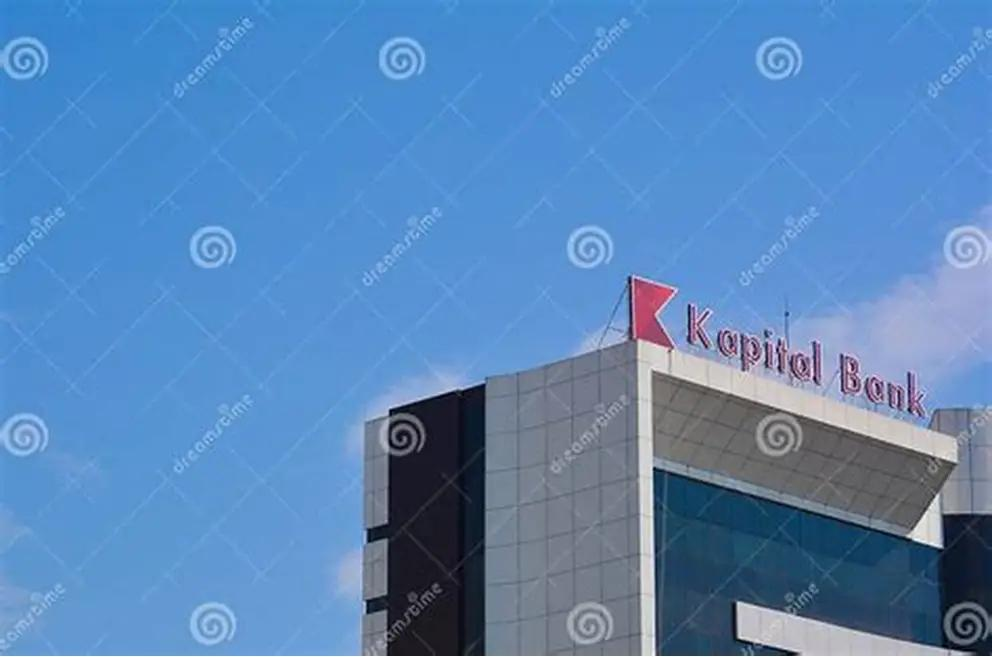Kapital Bank: (626, 273, 678, 350)
